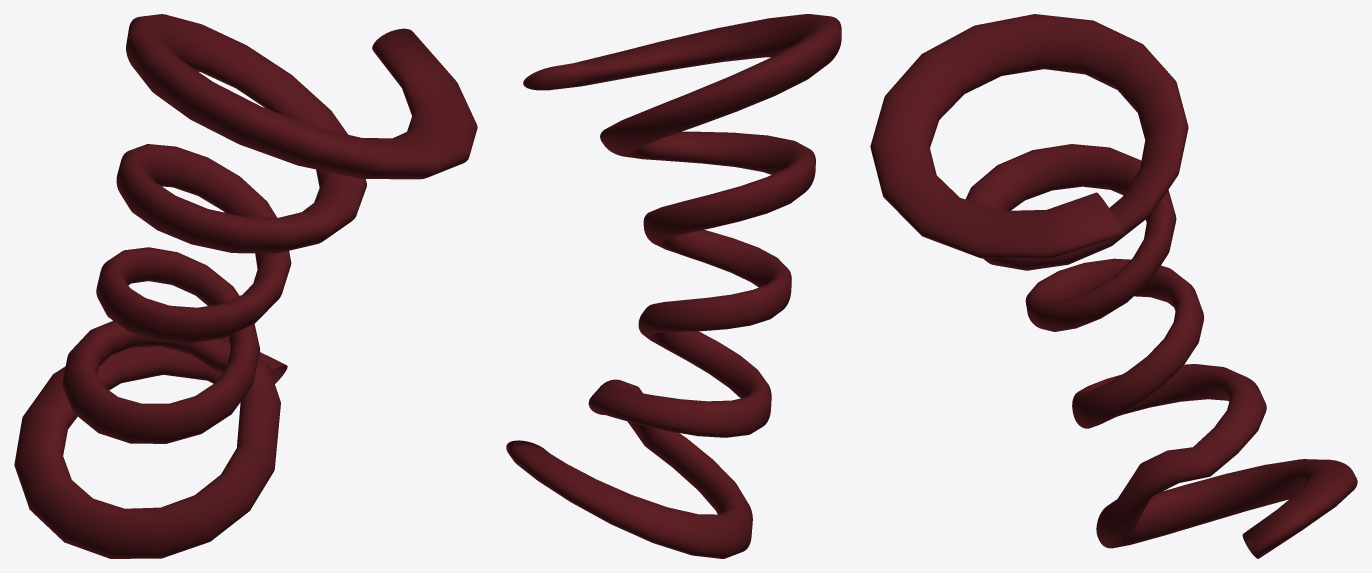
3 views of the same model, side by side, from view 1: azimuth 30°, elevation 25°; view 2: azimuth 150°, elevation 25°; view 3: azimuth 270°, elevation 25° (orthographic). The views are drawn at different scales.
Parts seen in each view (by area): view 1: Circle_Baked; view 2: Circle_Baked; view 3: Circle_Baked.
Boxes of the visible parts, x1,y1,x2,y2 form: Circle_Baked: [14, 14, 477, 558]; Circle_Baked: [506, 14, 841, 558]; Circle_Baked: [870, 14, 1357, 558].
Size of the model in its own units: 38.25 by 62.81 by 54.2.
1 material, 1 textured.
